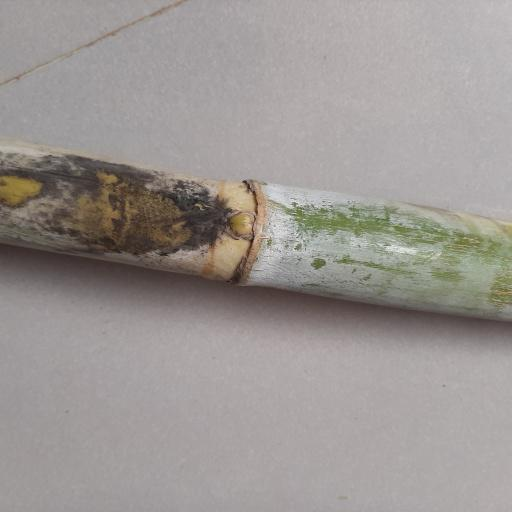Bud: (225, 208, 258, 242)
